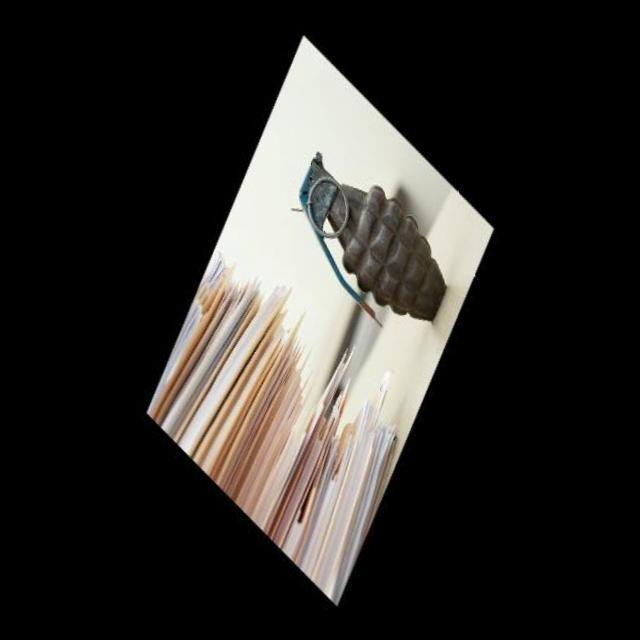grenade: (287, 123, 458, 341)
